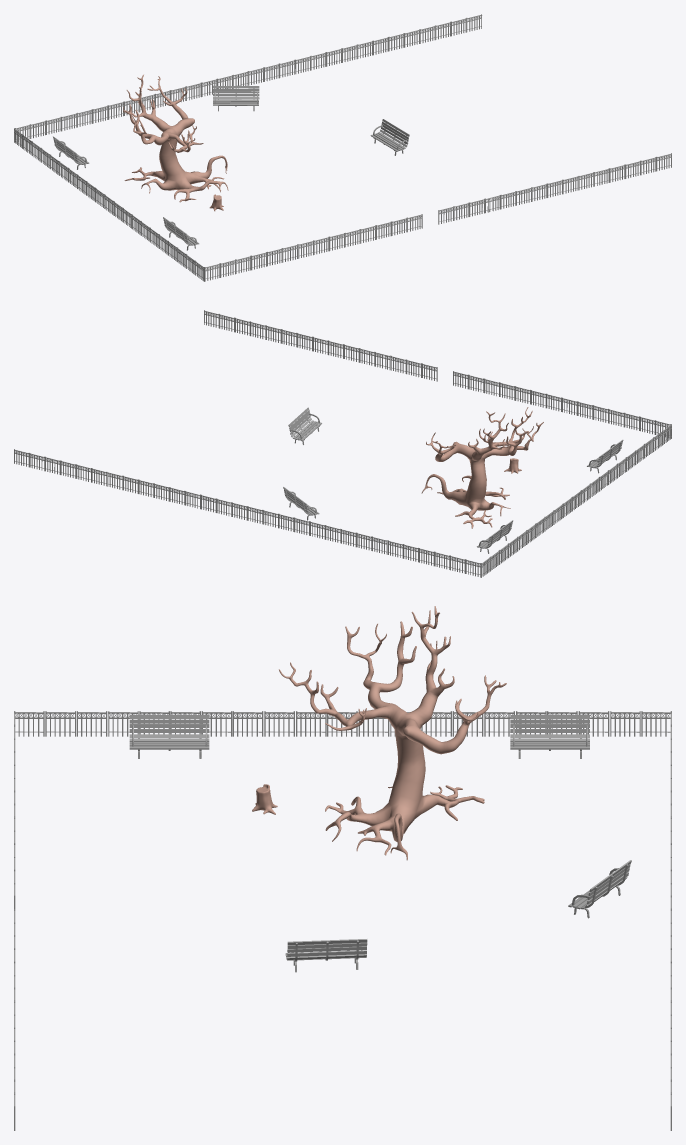
Rendered from Park_Export.fbx.
3 views of the same model, one above another, from view 1: azimuth 30°, elevation 25°; view 2: azimuth 150°, elevation 25°; view 3: azimuth 270°, elevation 25° (orthographic). The views are drawn at different scales.
Parts seen in each view (by area): view 1: LeaflessTree:LeaflessTree; view 2: LeaflessTree:LeaflessTree; view 3: LeaflessTree:LeaflessTree.
Part boxes in pixels (x1,y1,x2,y2): LeaflessTree:LeaflessTree: (123, 74, 228, 202); LeaflessTree:LeaflessTree: (421, 407, 543, 528); LeaflessTree:LeaflessTree: (279, 606, 506, 860).
Size of the model in its own units: 1.99 by 0.4561 by 1.4.
